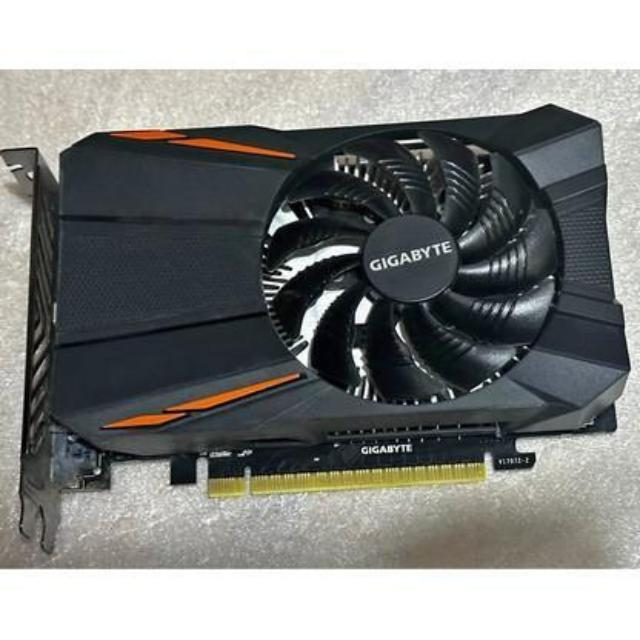GPU: (16, 117, 630, 500)
